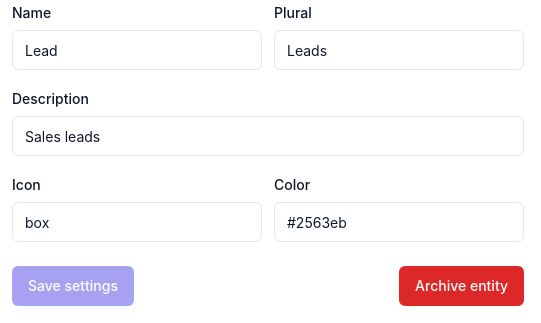
EntitySettings › disables Save until a field changes
Check: the button "Save settings" is disabled, box x1=12 y1=266 x2=134 y2=306
Replace the text in the field labelled "Name" with "Prospect" at point(137, 50), box x1=12 y1=30 x2=262 y2=70
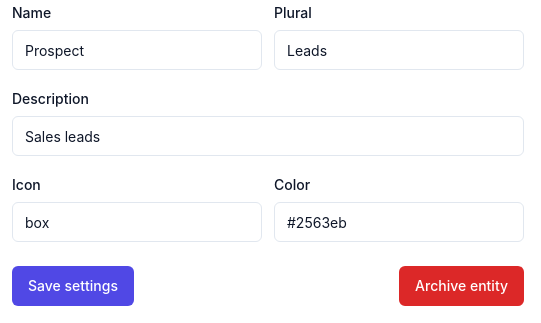
Check: the button "Save settings" is enabled, box x1=12 y1=266 x2=134 y2=306
